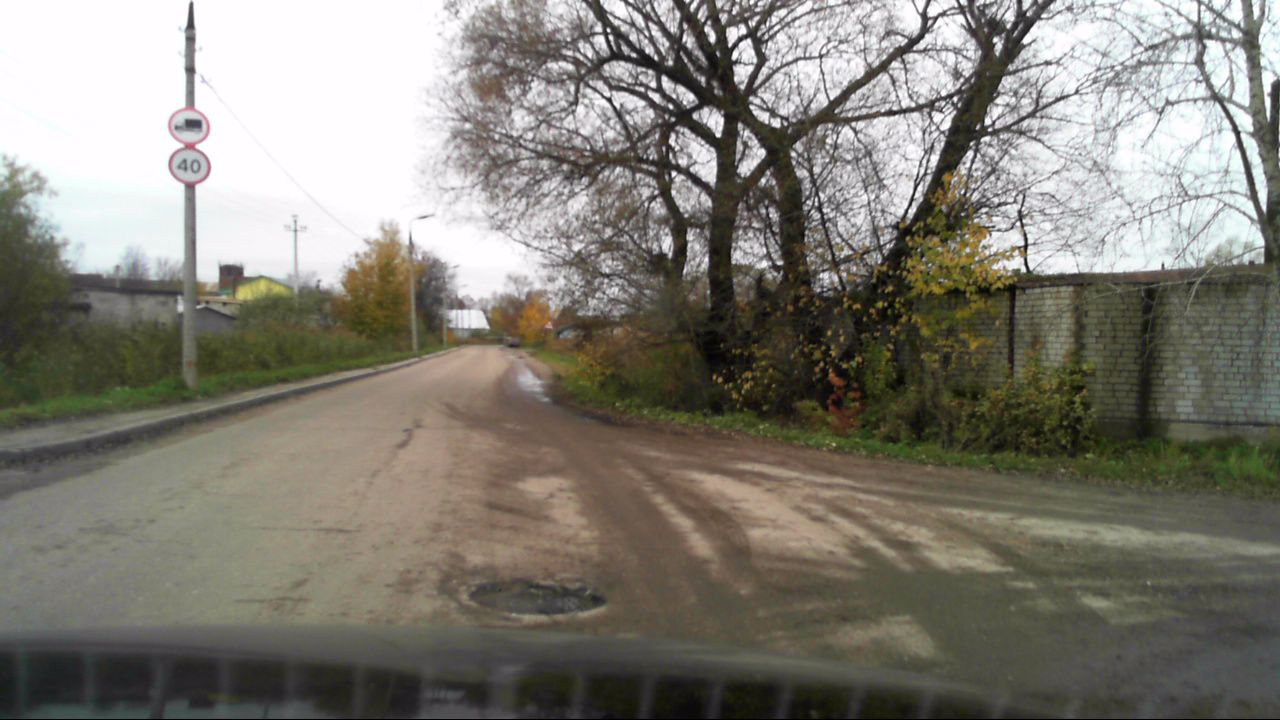speed_warning_40: (167, 148, 210, 187)
